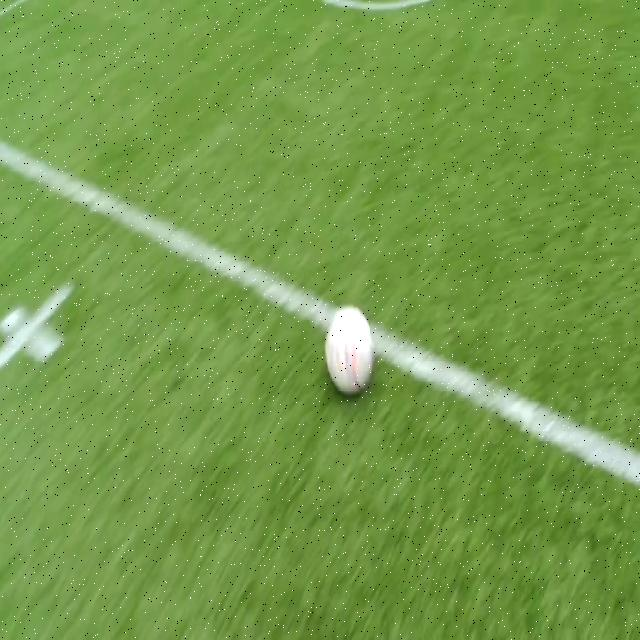ball: (325, 306, 373, 396)
